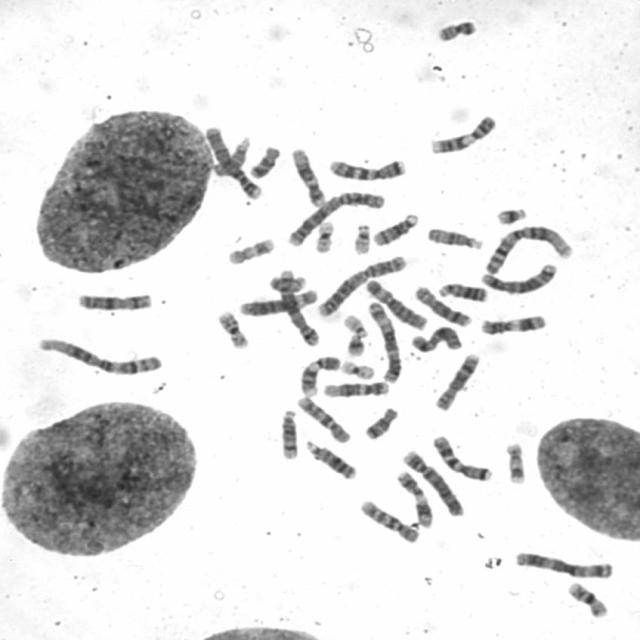A1: (32, 330, 166, 377), (478, 219, 575, 275)
A2: (311, 250, 409, 318), (280, 186, 387, 248)
A3: (508, 546, 616, 580), (363, 296, 404, 384)
B4: (397, 444, 467, 518), (199, 121, 264, 200)
B5: (271, 265, 322, 348), (475, 258, 559, 295)
C10: (354, 494, 422, 545), (292, 390, 353, 444)
C11: (391, 466, 436, 530), (475, 309, 549, 336)
C12: (286, 142, 328, 208), (319, 376, 391, 398)
C6: (360, 274, 430, 331), (234, 284, 320, 318)
C7: (427, 430, 495, 482), (322, 153, 408, 182)
C8: (429, 348, 482, 412), (410, 281, 473, 327)
C9: (424, 110, 499, 154), (295, 350, 342, 398)
D13: (300, 434, 358, 481), (433, 277, 490, 303)
D14: (368, 208, 420, 247), (274, 403, 300, 461)
D15: (209, 132, 253, 177), (422, 221, 485, 251)
E16: (563, 577, 610, 619), (213, 306, 251, 350)
E17: (222, 232, 277, 266), (500, 437, 528, 485)
E18: (360, 401, 400, 441), (244, 140, 283, 180)
F19: (310, 216, 337, 254), (336, 355, 376, 380)
F20: (432, 14, 479, 42), (264, 272, 308, 292)
G21: (490, 202, 529, 226), (342, 329, 366, 357)
G22: (348, 218, 372, 256), (339, 309, 370, 338)
X: (72, 287, 154, 312), (406, 321, 464, 353)
